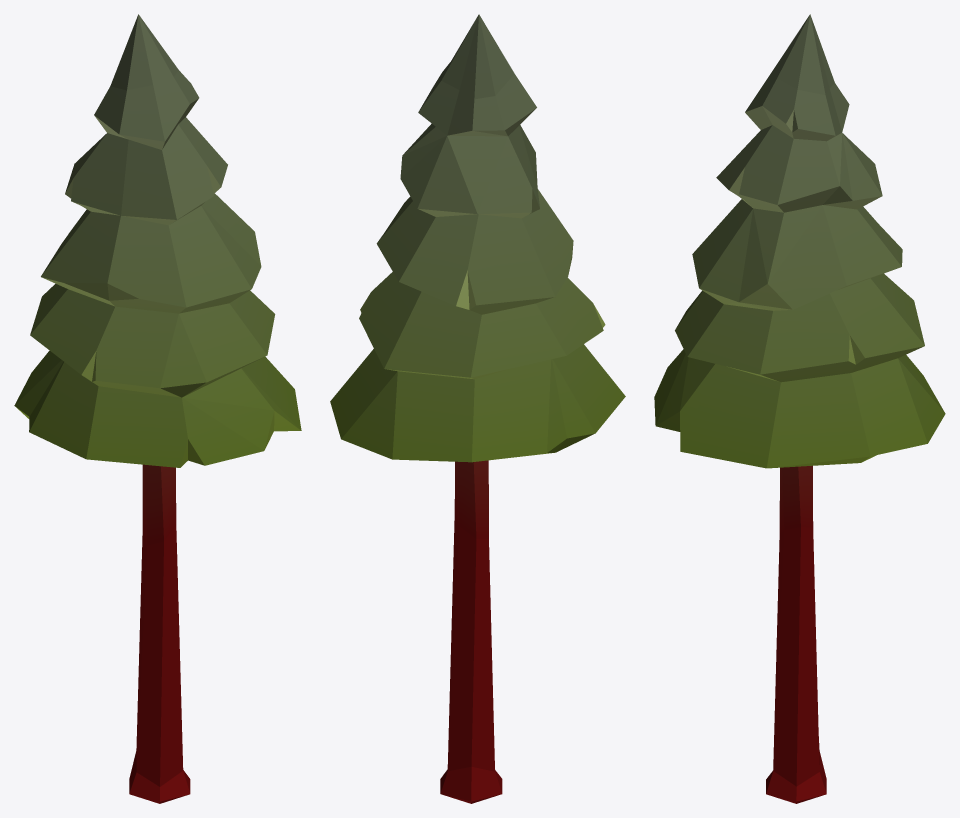
File: synty-tree-polypine-02.gltf
3 views of the same model, side by side, from view 1: azimuth 30°, elevation 25°; view 2: azimuth 150°, elevation 25°; view 3: azimuth 270°, elevation 25° (orthographic). The views are drawn at different scales.
Visible parts, largest first — view 1: SM_Tree_PolyPine_02; view 2: SM_Tree_PolyPine_02; view 3: SM_Tree_PolyPine_02.
Part boxes in pixels (left/top/right/bottom): SM_Tree_PolyPine_02: left=14, top=14, right=301, bottom=803; SM_Tree_PolyPine_02: left=330, top=14, right=625, bottom=803; SM_Tree_PolyPine_02: left=654, top=14, right=945, bottom=803.
Size of the model in its own units: 1.48 by 4.51 by 1.52.
Materials: 1 (1 with a texture image).
